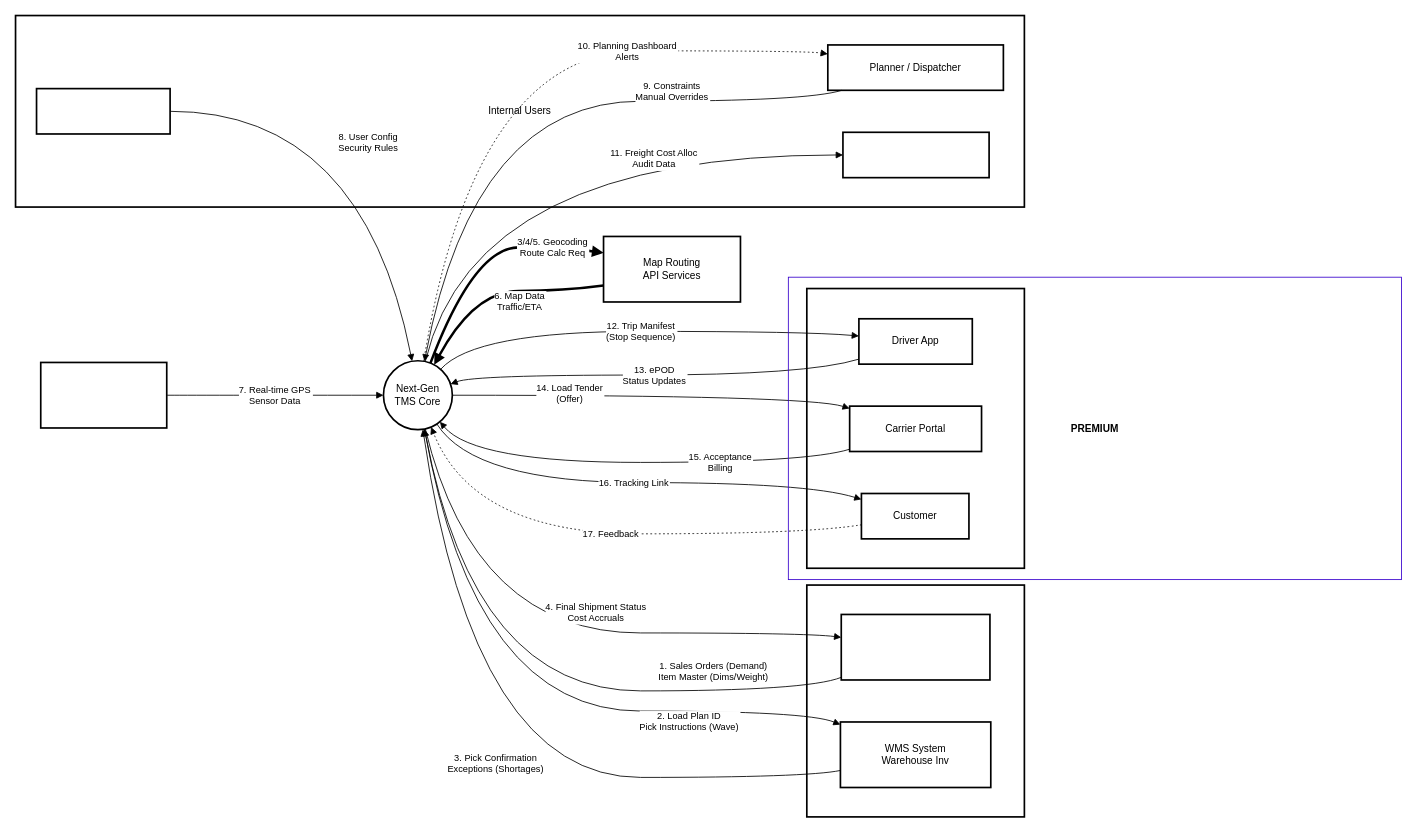
The diagram is 1416 pixels wide and 832 high, and some of its shapes have lost their labels. Each missing label, with the box of its shape:
Back Office Systems: (806, 584, 1025, 817)
ERP System Order Finance: (840, 613, 990, 680)
Finance & Audit: (842, 131, 990, 178)
System Admin: (35, 87, 171, 134)
Telematics / IoT Gateway: (39, 361, 167, 428)
